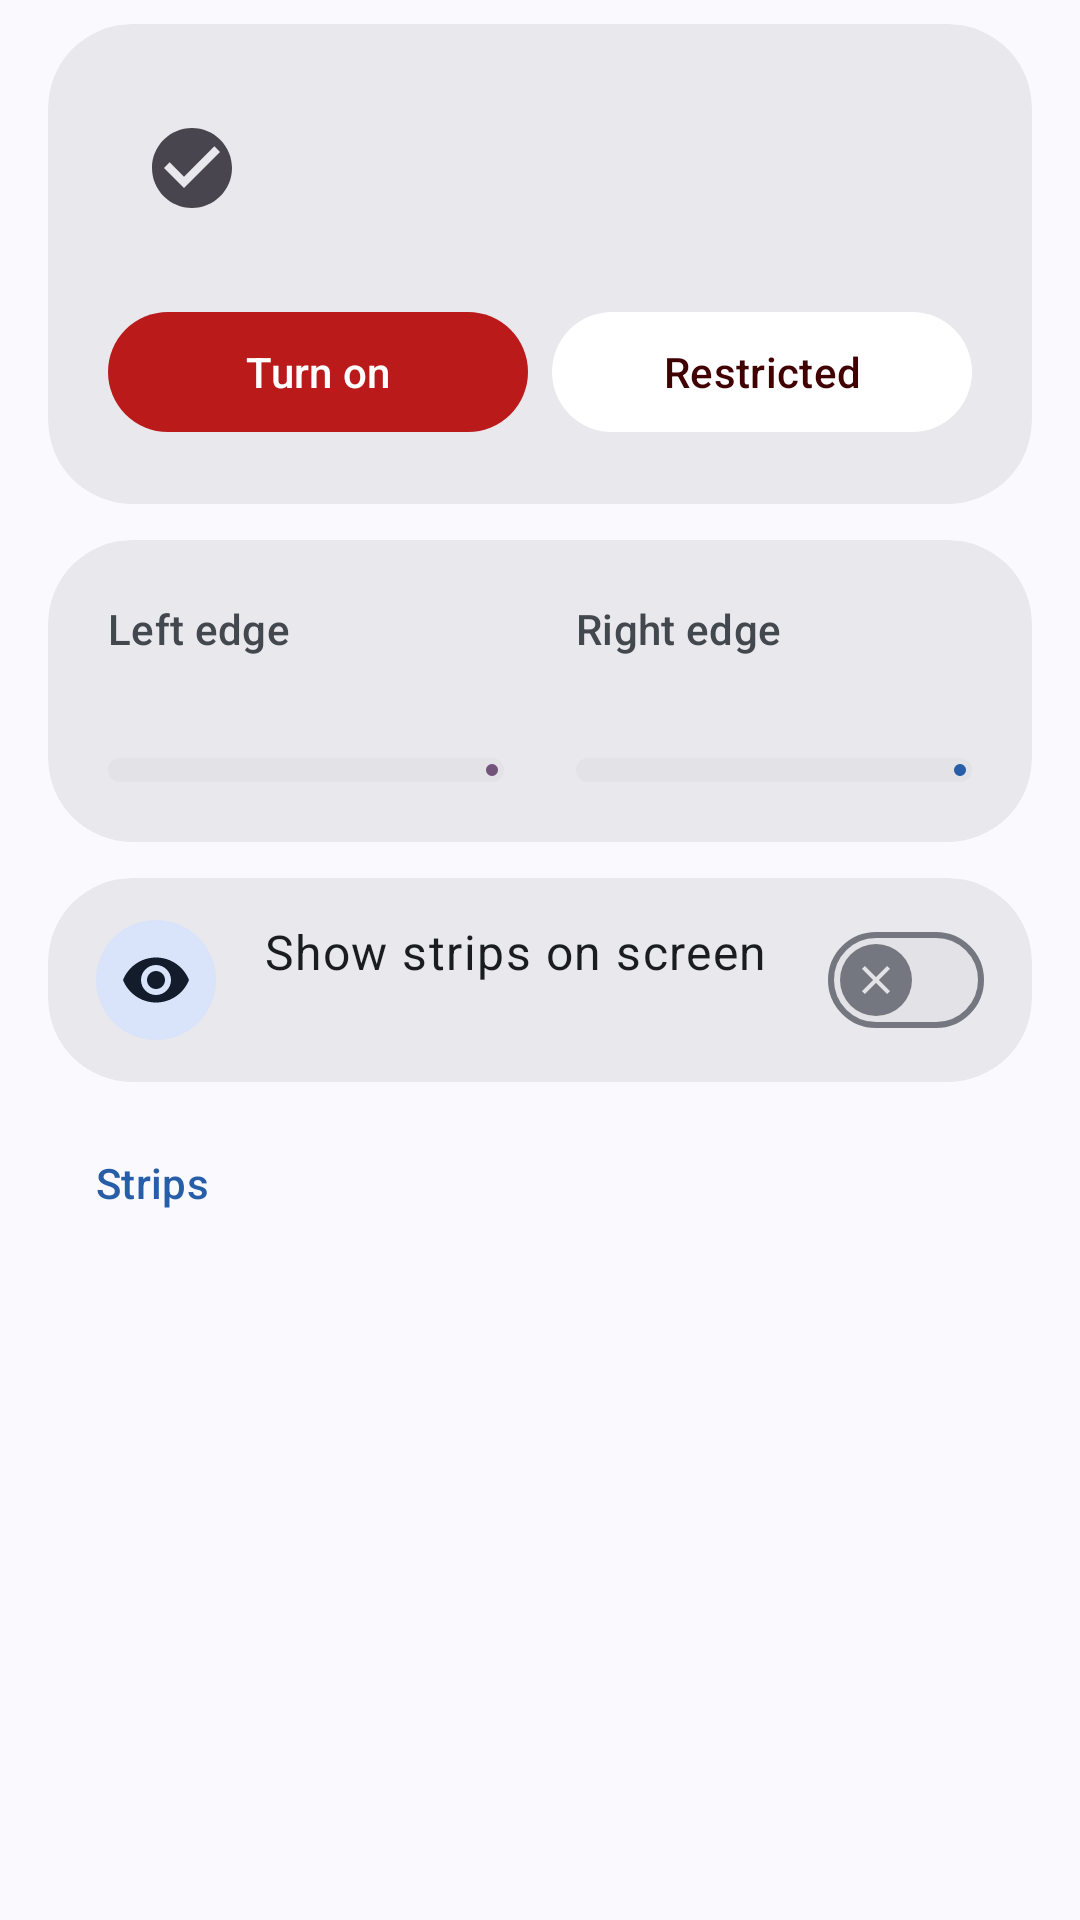

Screen size 1080px×1920px. Icon name, then its center in pixels as [x,y]:
check circle: [192,168]
visibility: [156,980]
